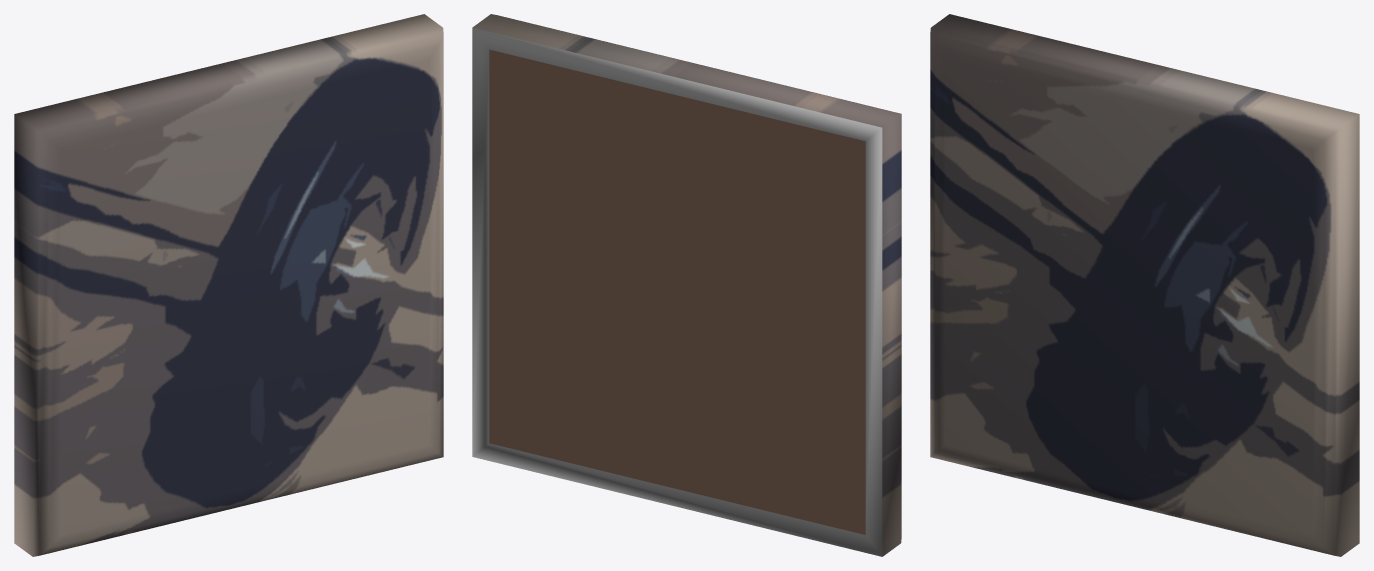
File: Painting_Small.fbx
3 renders of one model, left to right at view 1: azimuth 30°, elevation 25°; view 2: azimuth 150°, elevation 25°; view 3: azimuth 330°, elevation 25°, orthographic.
Parts seen in each view (by area): view 1: Painting_Small; view 2: Painting_Small; view 3: Painting_Small.
Part boxes in pixels (x1,y1,x2,y2): Painting_Small: (14, 14, 443, 556); Painting_Small: (472, 14, 901, 556); Painting_Small: (930, 14, 1359, 556).
Bounding box in the file's own units: 40.77 × 40.77 × 4.39.
